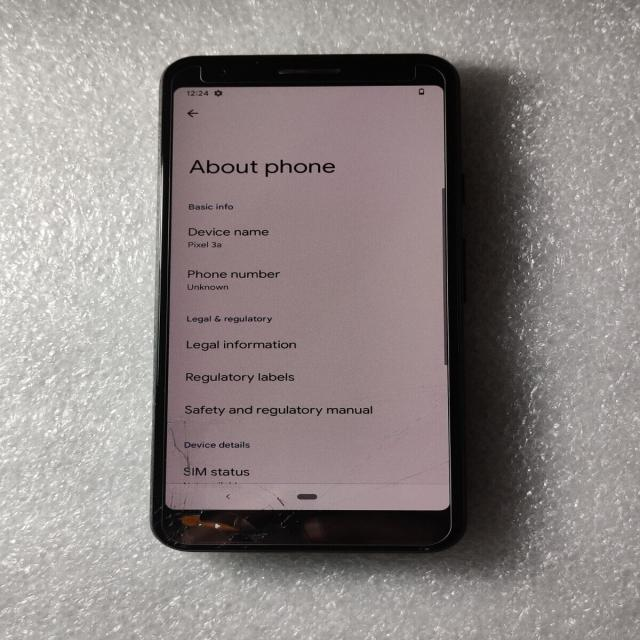Crack: (134, 427, 460, 563)
